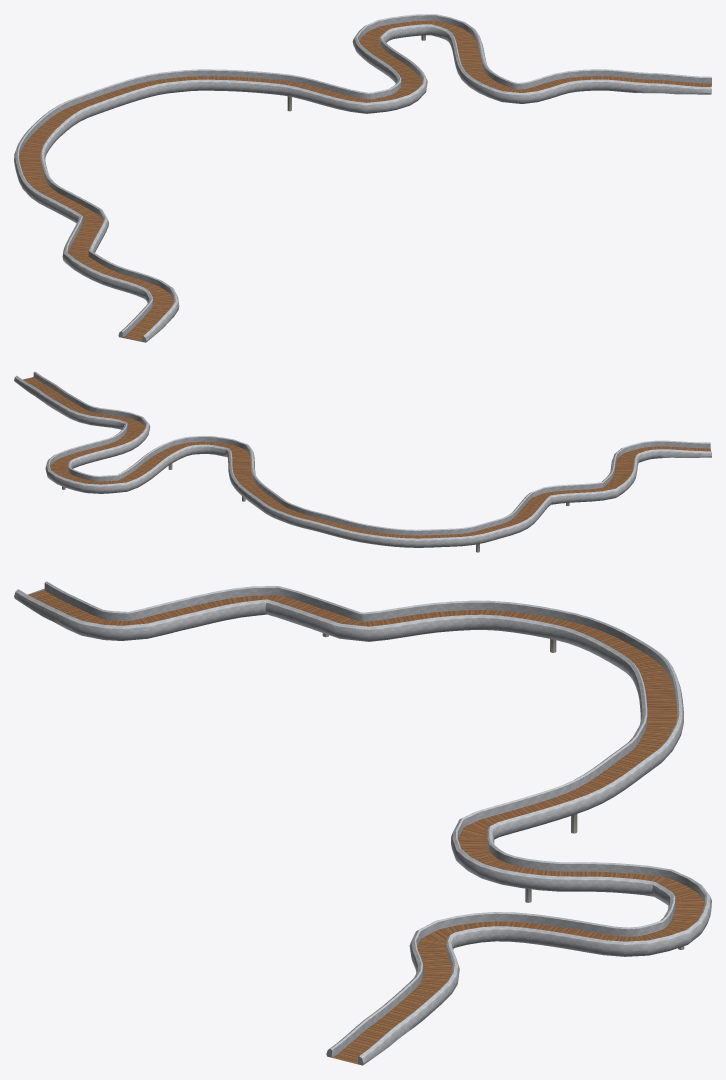
The model's file is bp_bridge.glb.
The picture shows the model from 3 angles, top to bottom: view 1: azimuth 30°, elevation 25°; view 2: azimuth 150°, elevation 25°; view 3: azimuth 270°, elevation 25°; orthographic projection. The views are drawn at different scales.
Visible parts, largest first — view 1: bp_bridge; view 2: bp_bridge; view 3: bp_bridge.
Boxes of the visible parts, x1,y1,x2,y2 form: bp_bridge: (14,14,711,342); bp_bridge: (14,371,711,552); bp_bridge: (14,581,711,1065).
Bounding box in the file's own units: 161 × 7.23 × 99.67.
3 materials, 3 textured.
